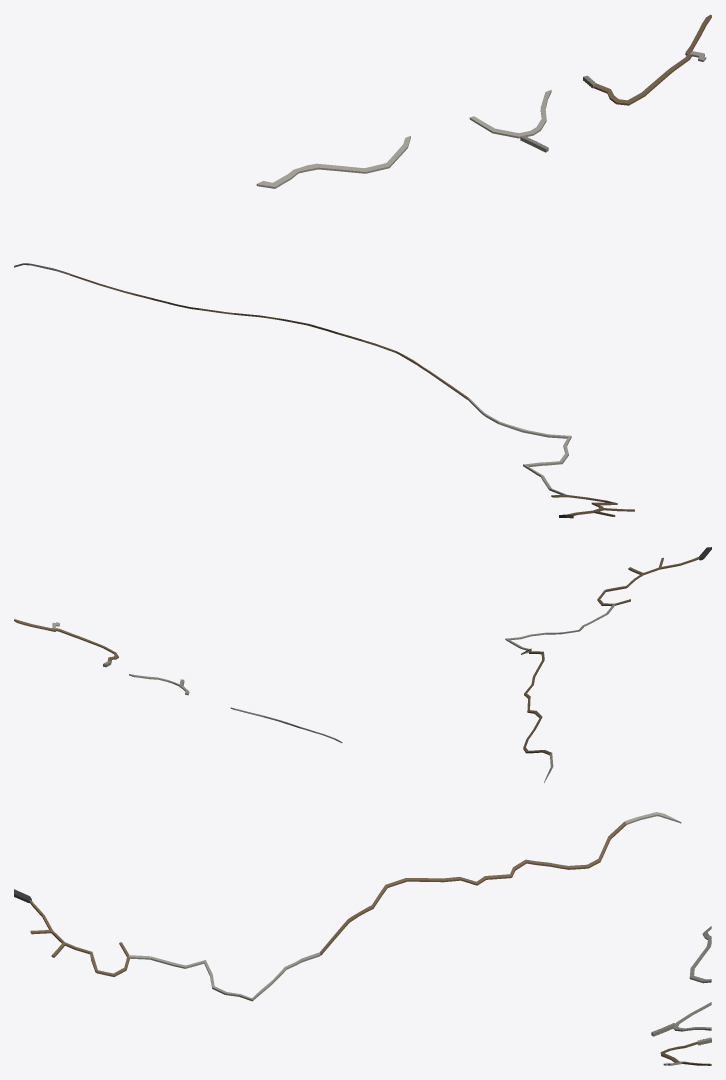
3 renders of one model, top to bottom at view 1: azimuth 30°, elevation 25°; view 2: azimuth 150°, elevation 25°; view 3: azimuth 270°, elevation 25°, orthographic. The views are drawn at different scales.
Size of the model in its own units: 293 by 49.96 by 292.
